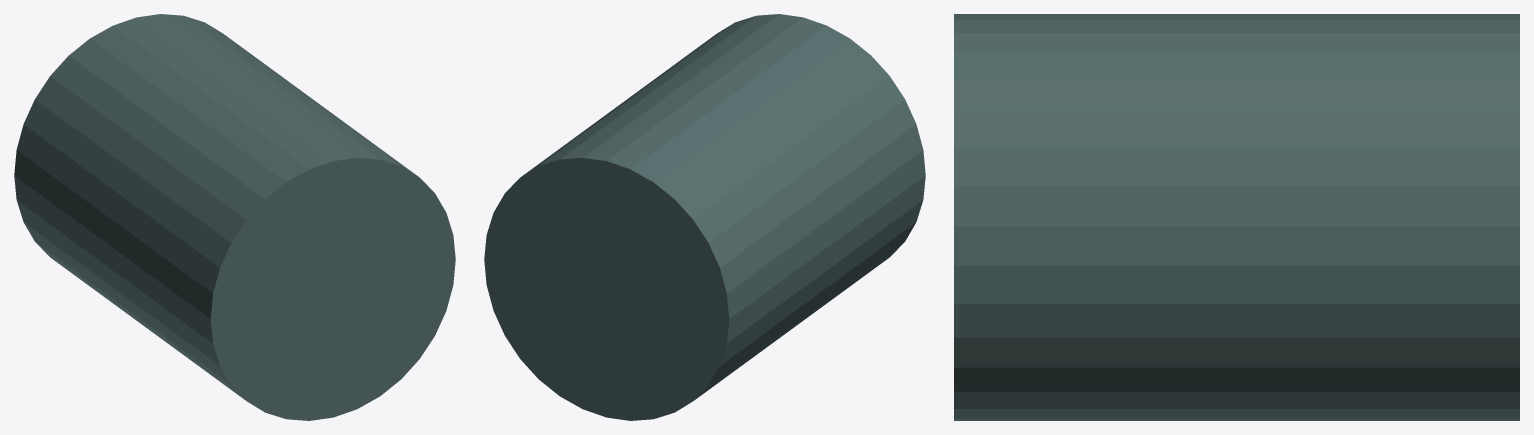
File: basic_shapes_object_0.obj
3 views of the same model, side by side, from view 1: azimuth 30°, elevation 25°; view 2: azimuth 150°, elevation 25°; view 3: azimuth 270°, elevation 25° (orthographic). The views are drawn at different scales.
Bounding box in the file's own units: 0.3259 × 0.3259 × 0.4526.
